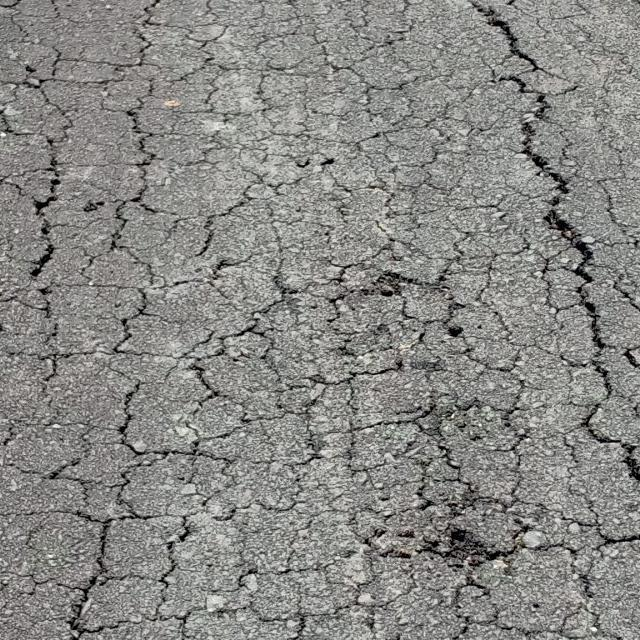retak_kulit_buaya: (0, 70, 640, 640)
